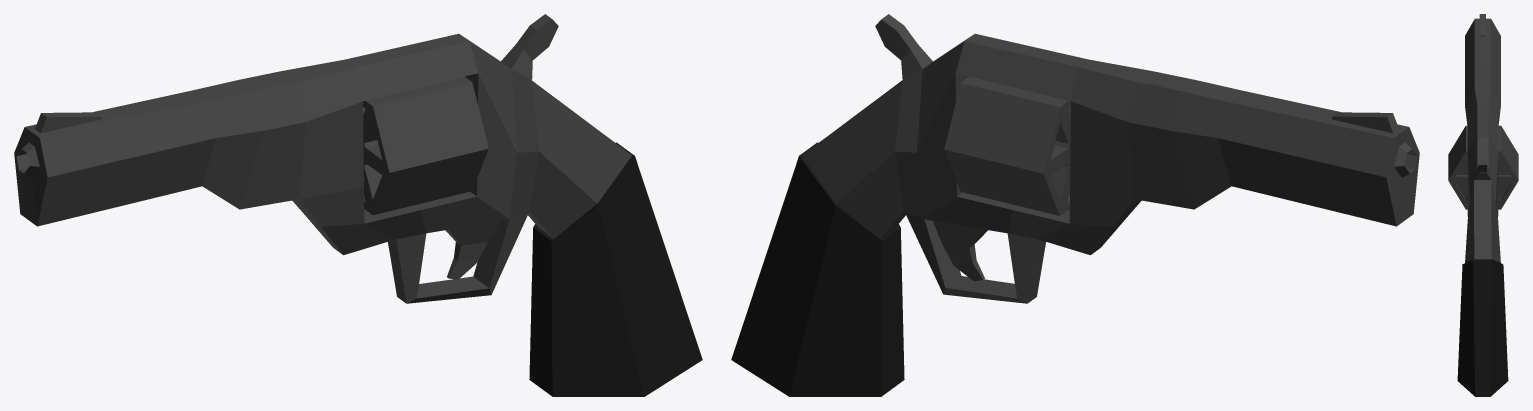
The model's file is Revolver.fbx.
3 views of the same model, side by side, from view 1: azimuth 30°, elevation 25°; view 2: azimuth 150°, elevation 25°; view 3: azimuth 270°, elevation 25° (orthographic). The views are drawn at different scales.
Parts seen in each view (by area): view 1: Cube.002; view 2: Cube.002; view 3: Cube.002.
Boxes of the visible parts, <box> form: Cube.002: <box>14,14,702,396</box>; Cube.002: <box>731,14,1419,396</box>; Cube.002: <box>1448,14,1518,396</box>.
Size of the model in its own units: 24.45 by 14.04 by 4.15.
